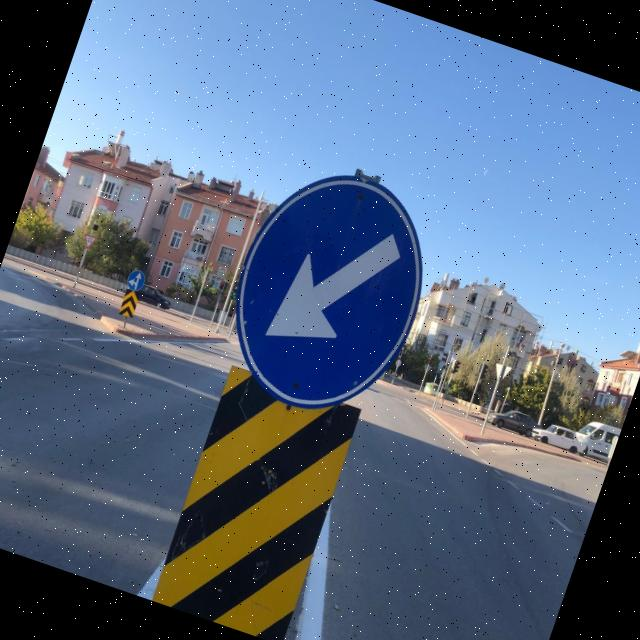compulsory_keep_right: (202, 142, 464, 436)
